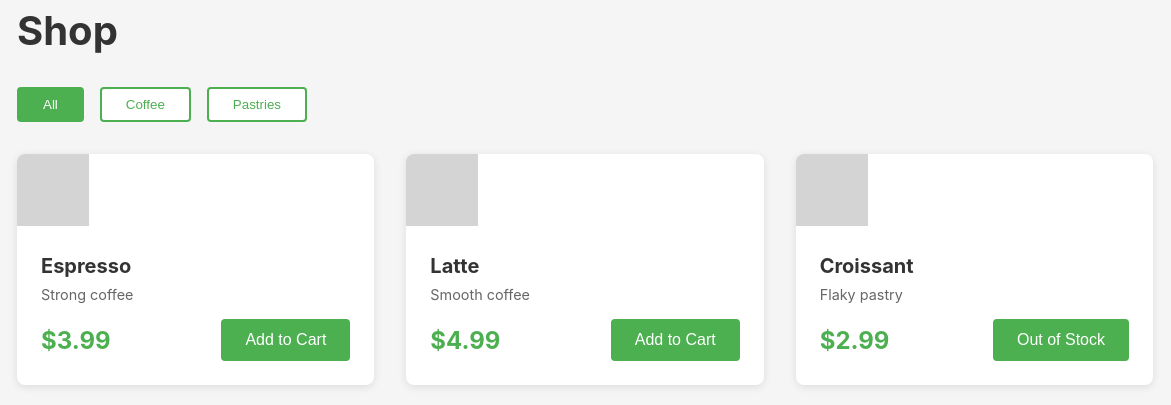
Shop Page › shows all products when "All" category is selected
The image size is (1171, 405).
Expected: the heading "Espresso" is shown, [41,254,131,278]
Note: First filter to Coffee
Click the button "Coffee". click: (145, 104)
box: [100,87,191,122]
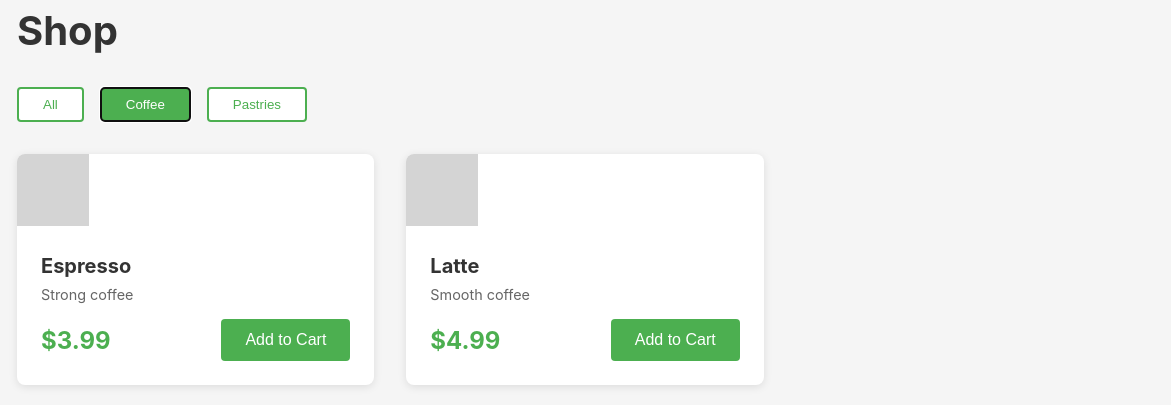
Note: Then click All
Click the button "All". click: (50, 104)
box: [17,87,84,122]
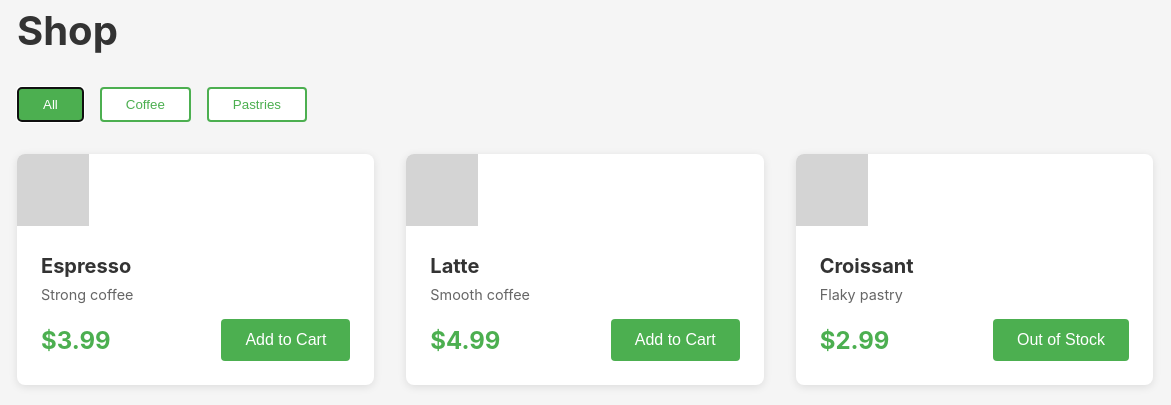
Expected: the heading "Espresso" is shown, [41,254,131,278]
Expected: the heading "Croissant" is shown, [820,254,914,278]
